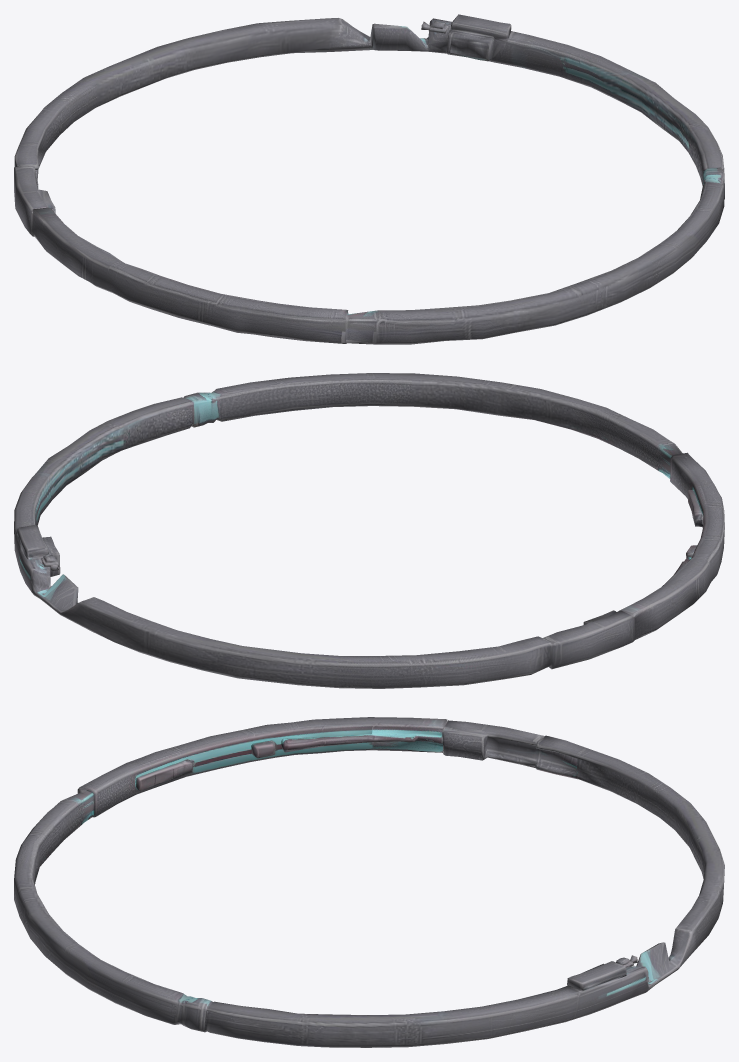
The model's file is ring_inner.glb.
3 views of the same model, one above another, from view 1: azimuth 30°, elevation 25°; view 2: azimuth 150°, elevation 25°; view 3: azimuth 270°, elevation 25° (orthographic).
Visible parts, largest first — view 1: thin ring; view 2: thin ring; view 3: thin ring.
Part boxes in pixels (box(x1,y1,x2,y2)): thin ring: box(14, 14, 724, 344); thin ring: box(14, 373, 724, 688); thin ring: box(14, 717, 724, 1047).
Size of the model in its own units: 0.6349 by 0.0406 by 0.6365.
Materials: 1 (1 with a texture image).
